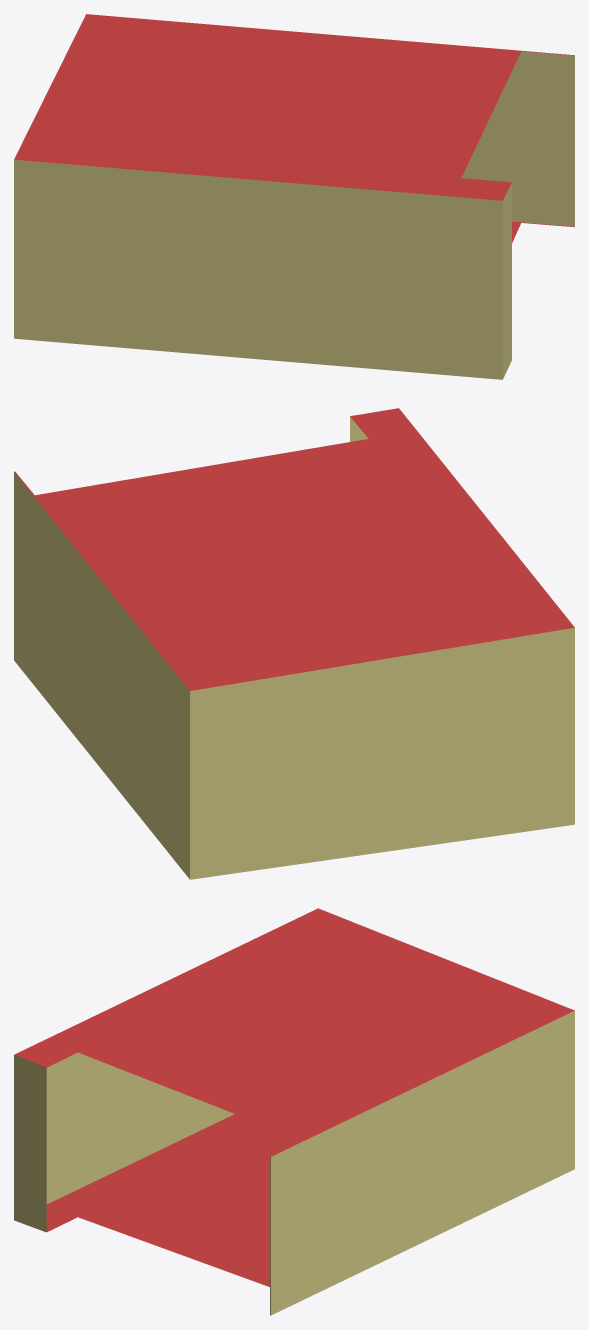
3 views of the same model, one above another, from view 1: azimuth 30°, elevation 25°; view 2: azimuth 150°, elevation 25°; view 3: azimuth 270°, elevation 25° (orthographic). The views are drawn at different scales.
Visible parts, largest first — view 1: group_4, group_3; view 2: group_4, group_3; view 3: group_4, group_3, group_5.
Boxes of the visible parts, x1=… form: group_4: x1=14, y1=51, x2=574, y2=379; group_3: x1=14, y1=14, x2=574, y2=200; group_4: x1=14, y1=416, x2=574, y2=879; group_3: x1=14, y1=408, x2=574, y2=690; group_4: x1=14, y1=1010, x2=574, y2=1315; group_3: x1=14, y1=908, x2=574, y2=1156; group_5: x1=46, y1=1114, x2=302, y2=1286.
Size of the model in its own units: 17.22 by 16.9 by 5.51.
